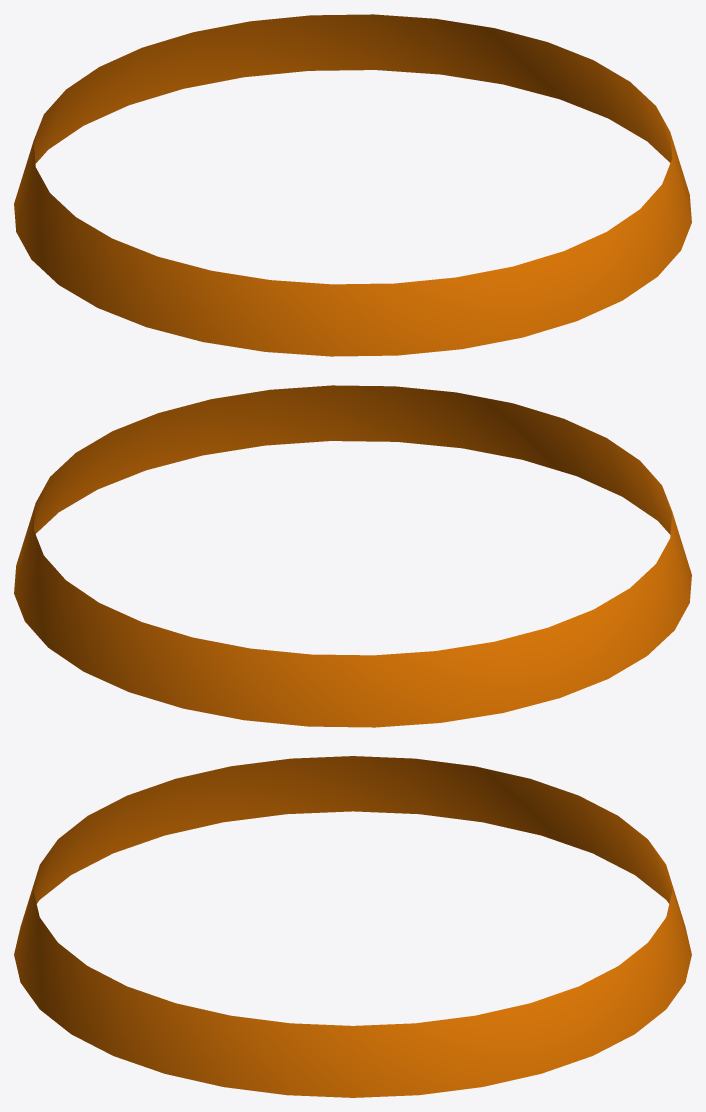
The model's file is zhao1.FBX.
3 renders of one model, top to bottom at view 1: azimuth 30°, elevation 25°; view 2: azimuth 150°, elevation 25°; view 3: azimuth 270°, elevation 25°, orthographic.
Visible parts, largest first — view 1: Sphere001; view 2: Sphere001; view 3: Sphere001.
Part boxes in pixels (x1,y1,x2,y2): Sphere001: (14,14,691,356); Sphere001: (14,385,691,727); Sphere001: (14,756,691,1097).
Size of the model in its own units: 890 by 92.32 by 890.
